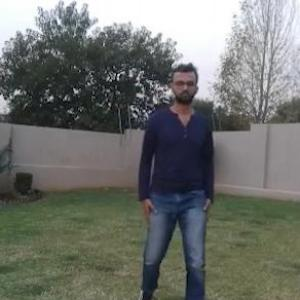follow: (150, 76, 216, 299)
